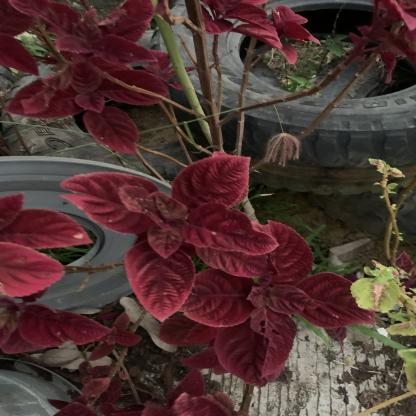Bunga Coleus: (9, 5, 338, 402)
